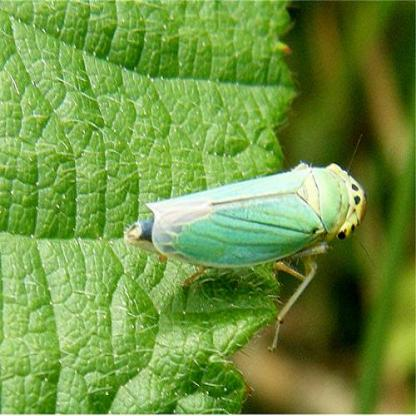Green-Leafhopper: (122, 143, 369, 350)
